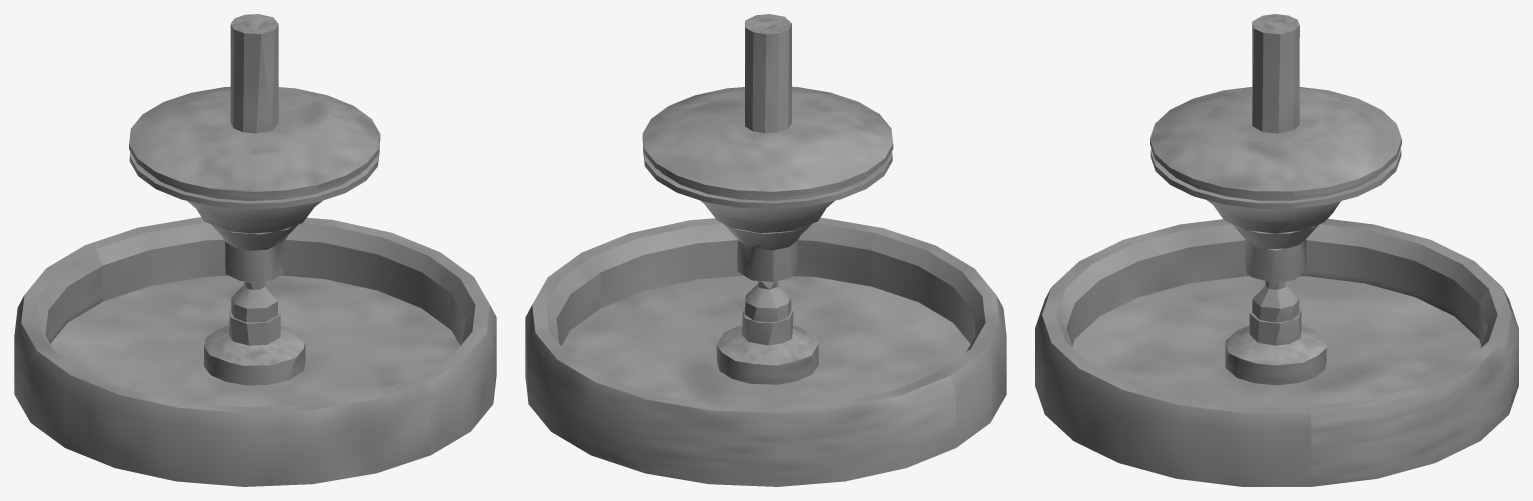
The model's file is ChafarizLOD0.fbx.
3 renders of one model, left to right at view 1: azimuth 30°, elevation 25°; view 2: azimuth 150°, elevation 25°; view 3: azimuth 270°, elevation 25°, orthographic.
Parts seen in each view (by area): view 1: Chafariz; view 2: Chafariz; view 3: Chafariz.
Part boxes in pixels (box(x1,y1,x2,y2)): Chafariz: box(14, 14, 496, 486); Chafariz: box(525, 14, 1006, 486); Chafariz: box(1035, 14, 1518, 486).
Bounding box in the file's own units: 354 × 295 × 358.
